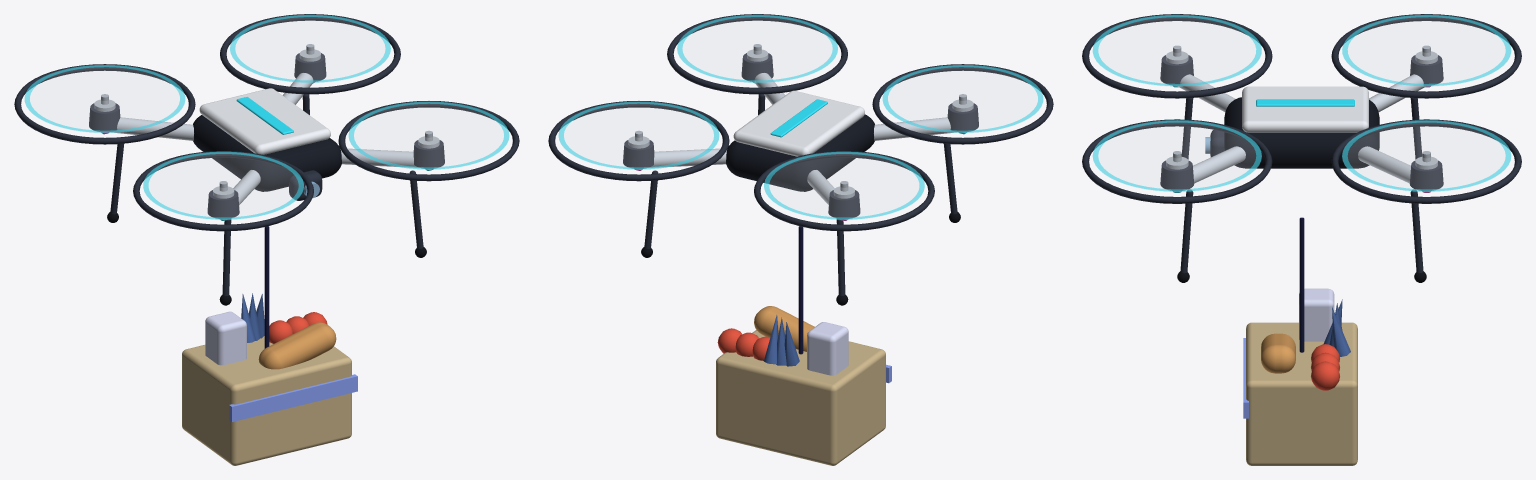
File: deliveryDrone.glb
3 renders of one model, left to right at view 1: azimuth 30°, elevation 25°; view 2: azimuth 150°, elevation 25°; view 3: azimuth 270°, elevation 25°, orthographic. The views are drawn at different scales.
Visible parts, largest first — view 1: drone, box, disc0, disc1, disc3, disc2, shellTop, shell, band, bread, milk, arm2 (+6 smaller); view 2: box, drone, disc3, disc2, disc0, disc1, shellTop, shell, milk, bread, arm1, arm3 (+5 smaller); view 3: drone, box, disc0, disc1, disc3, disc2, shellTop, shell, milk, bread, motor0, motor3 (+9 smaller).
Boxes of the visible parts, x1=… form: drone: x1=14, y1=14, x2=519, y2=305; box: x1=182, y1=336, x2=351, y2=465; disc0: x1=348, y1=101, x2=509, y2=169; disc1: x1=143, y1=151, x2=303, y2=219; disc3: x1=230, y1=14, x2=390, y2=82; disc2: x1=24, y1=65, x2=185, y2=132; shellTop: x1=199, y1=88, x2=330, y2=154; shell: x1=193, y1=115, x2=341, y2=191; band: x1=229, y1=374, x2=357, y2=421; bread: x1=258, y1=322, x2=336, y2=369; milk: x1=205, y1=311, x2=246, y2=365; arm2: x1=111, y1=117, x2=193, y2=140; box: x1=716, y1=330, x2=885, y2=465; drone: x1=548, y1=14, x2=1053, y2=305; disc3: x1=558, y1=101, x2=719, y2=169; disc2: x1=764, y1=151, x2=924, y2=219; disc0: x1=677, y1=14, x2=837, y2=82; disc1: x1=882, y1=65, x2=1043, y2=132; shellTop: x1=733, y1=90, x2=864, y2=156; shell: x1=726, y1=114, x2=874, y2=191; milk: x1=807, y1=322, x2=848, y2=375; bread: x1=754, y1=306, x2=814, y2=351; arm1: x1=874, y1=117, x2=956, y2=140; arm3: x1=649, y1=148, x2=726, y2=167; drone: x1=1082, y1=14, x2=1521, y2=282; box: x1=1246, y1=322, x2=1357, y2=465; disc0: x1=1092, y1=120, x2=1261, y2=191; disc1: x1=1092, y1=14, x2=1261, y2=86; disc3: x1=1342, y1=120, x2=1511, y2=191; disc2: x1=1342, y1=14, x2=1511, y2=86; shellTop: x1=1242, y1=86, x2=1368, y2=132; shell: x1=1224, y1=97, x2=1379, y2=168; milk: x1=1299, y1=288, x2=1334, y2=341; bread: x1=1261, y1=333, x2=1295, y2=373; motor0: x1=1160, y1=156, x2=1194, y2=190; motor3: x1=1409, y1=156, x2=1443, y2=190.
Bounding box in the file's own units: 1.5 × 1.26 × 1.5.
